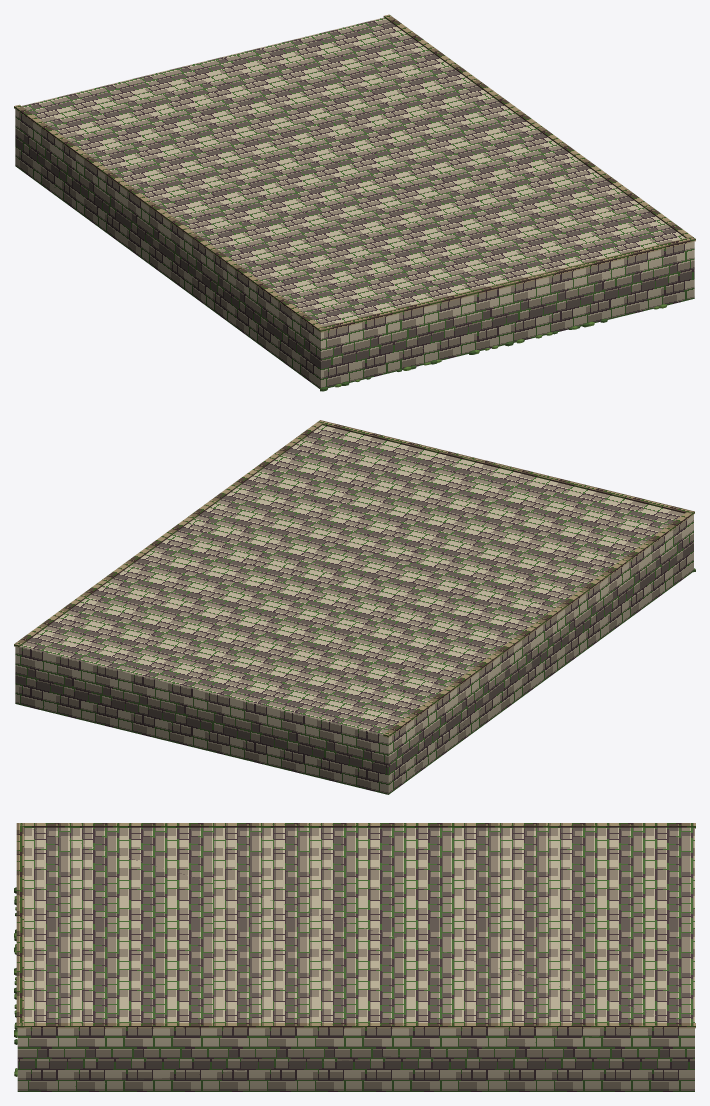
File: scene_wall_e5.glb
The picture shows the model from 3 angles, top to bottom: view 1: azimuth 30°, elevation 25°; view 2: azimuth 150°, elevation 25°; view 3: azimuth 270°, elevation 25°; orthographic projection. The views are drawn at different scales.
Visible parts, largest first — view 1: scene_wall_e5; view 2: scene_wall_e5; view 3: scene_wall_e5.
Part boxes in pixels (x1,y1,x2,y2): scene_wall_e5: [14, 14, 695, 391]; scene_wall_e5: [14, 420, 695, 794]; scene_wall_e5: [14, 823, 695, 1091].
Bounding box in the file's own units: 24.15 × 3.77 × 34.24.
Materials: 2 (1 with a texture image).
